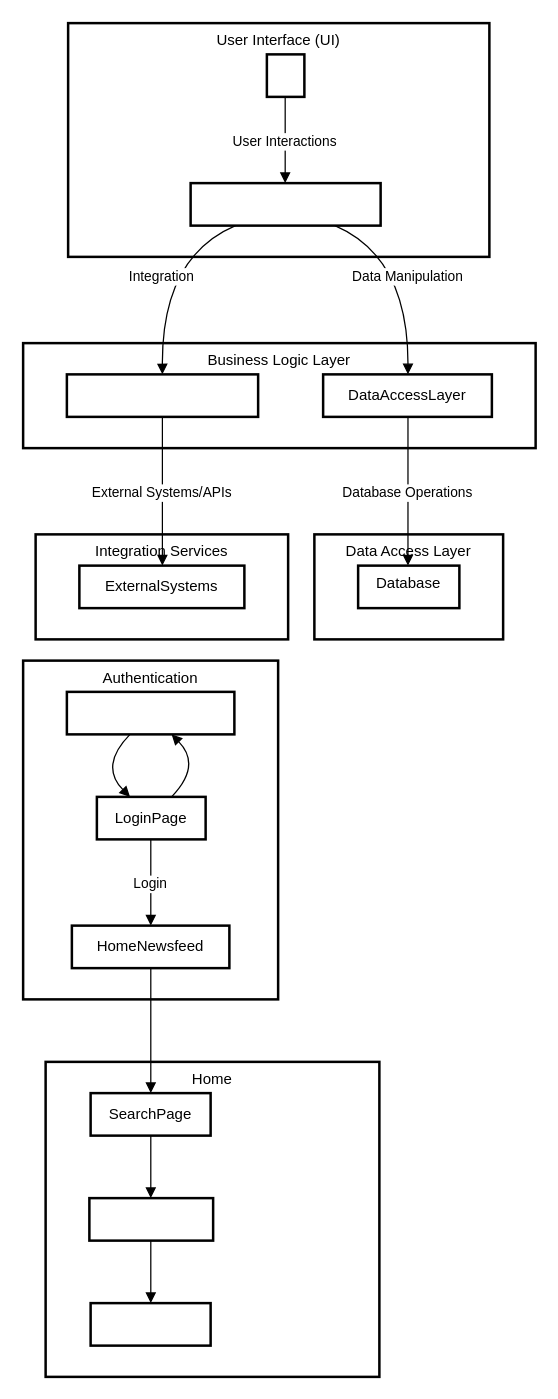
The diagram is 558 pixels wide and 1399 high, and some of its shapes have lost their labels. The centre of each missing label's shape, as x and y in pixels:
BusinessLogicLayer: [285,203]
IntegrationServices: [162,395]
ProfilePage: [150,1323]
RegistrationPage: [150,712]
UI: [285,75]
UploadPage: [151,1218]
